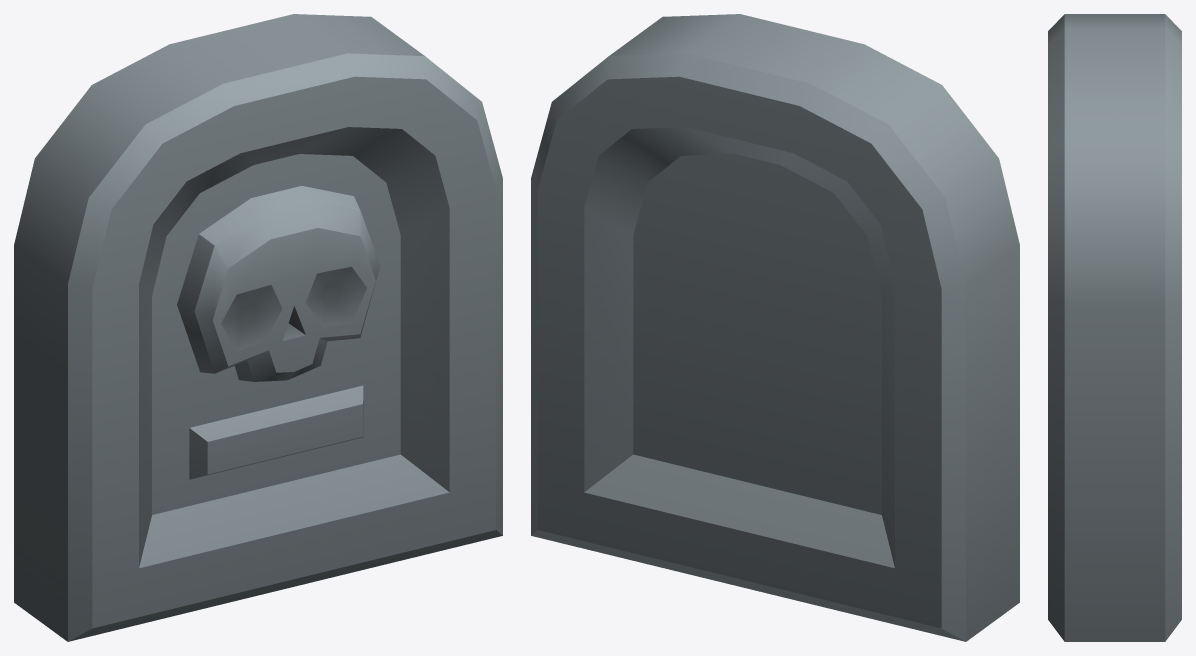
Rendered from gravestone.obj.
The picture shows the model from 3 angles, left to right: view 1: azimuth 30°, elevation 25°; view 2: azimuth 150°, elevation 25°; view 3: azimuth 270°, elevation 25°; orthographic projection. The views are drawn at different scales.
Visible parts, largest first — view 1: gravestone_Cube.101; view 2: gravestone_Cube.101; view 3: gravestone_Cube.101.
Boxes of the visible parts, left/top/right/bottom form: gravestone_Cube.101: left=14, top=14, right=502, bottom=641; gravestone_Cube.101: left=531, top=14, right=1019, bottom=641; gravestone_Cube.101: left=1048, top=14, right=1181, bottom=641.
Bounding box in the file's own units: 1.4 × 1.6 × 0.4.
1 material, 1 textured.
